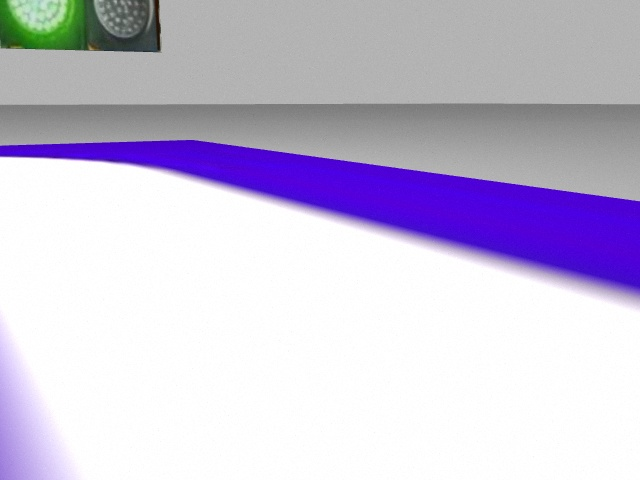green: (1, 1, 84, 50)
